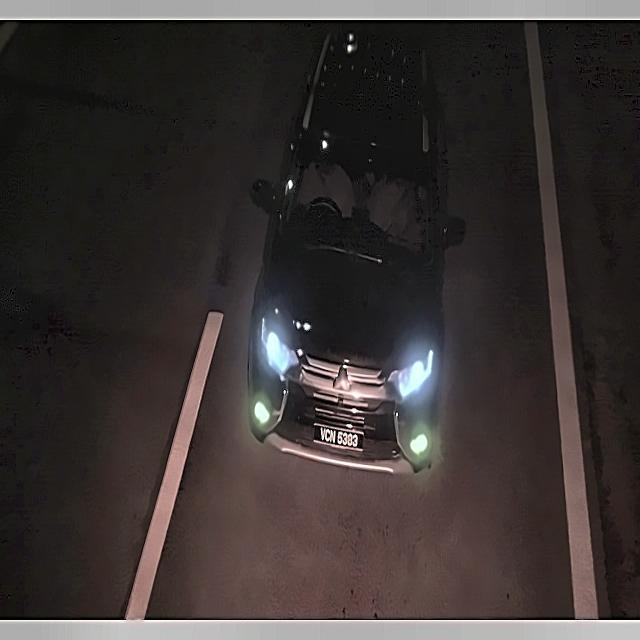car: (309, 411, 371, 461)
